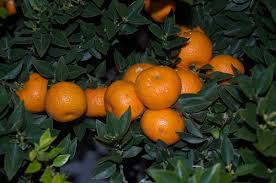orange: (143, 109, 186, 147), (173, 31, 213, 71), (142, 67, 181, 108), (48, 81, 86, 122), (14, 73, 49, 117), (104, 79, 135, 126), (211, 56, 245, 86), (82, 85, 108, 117)
